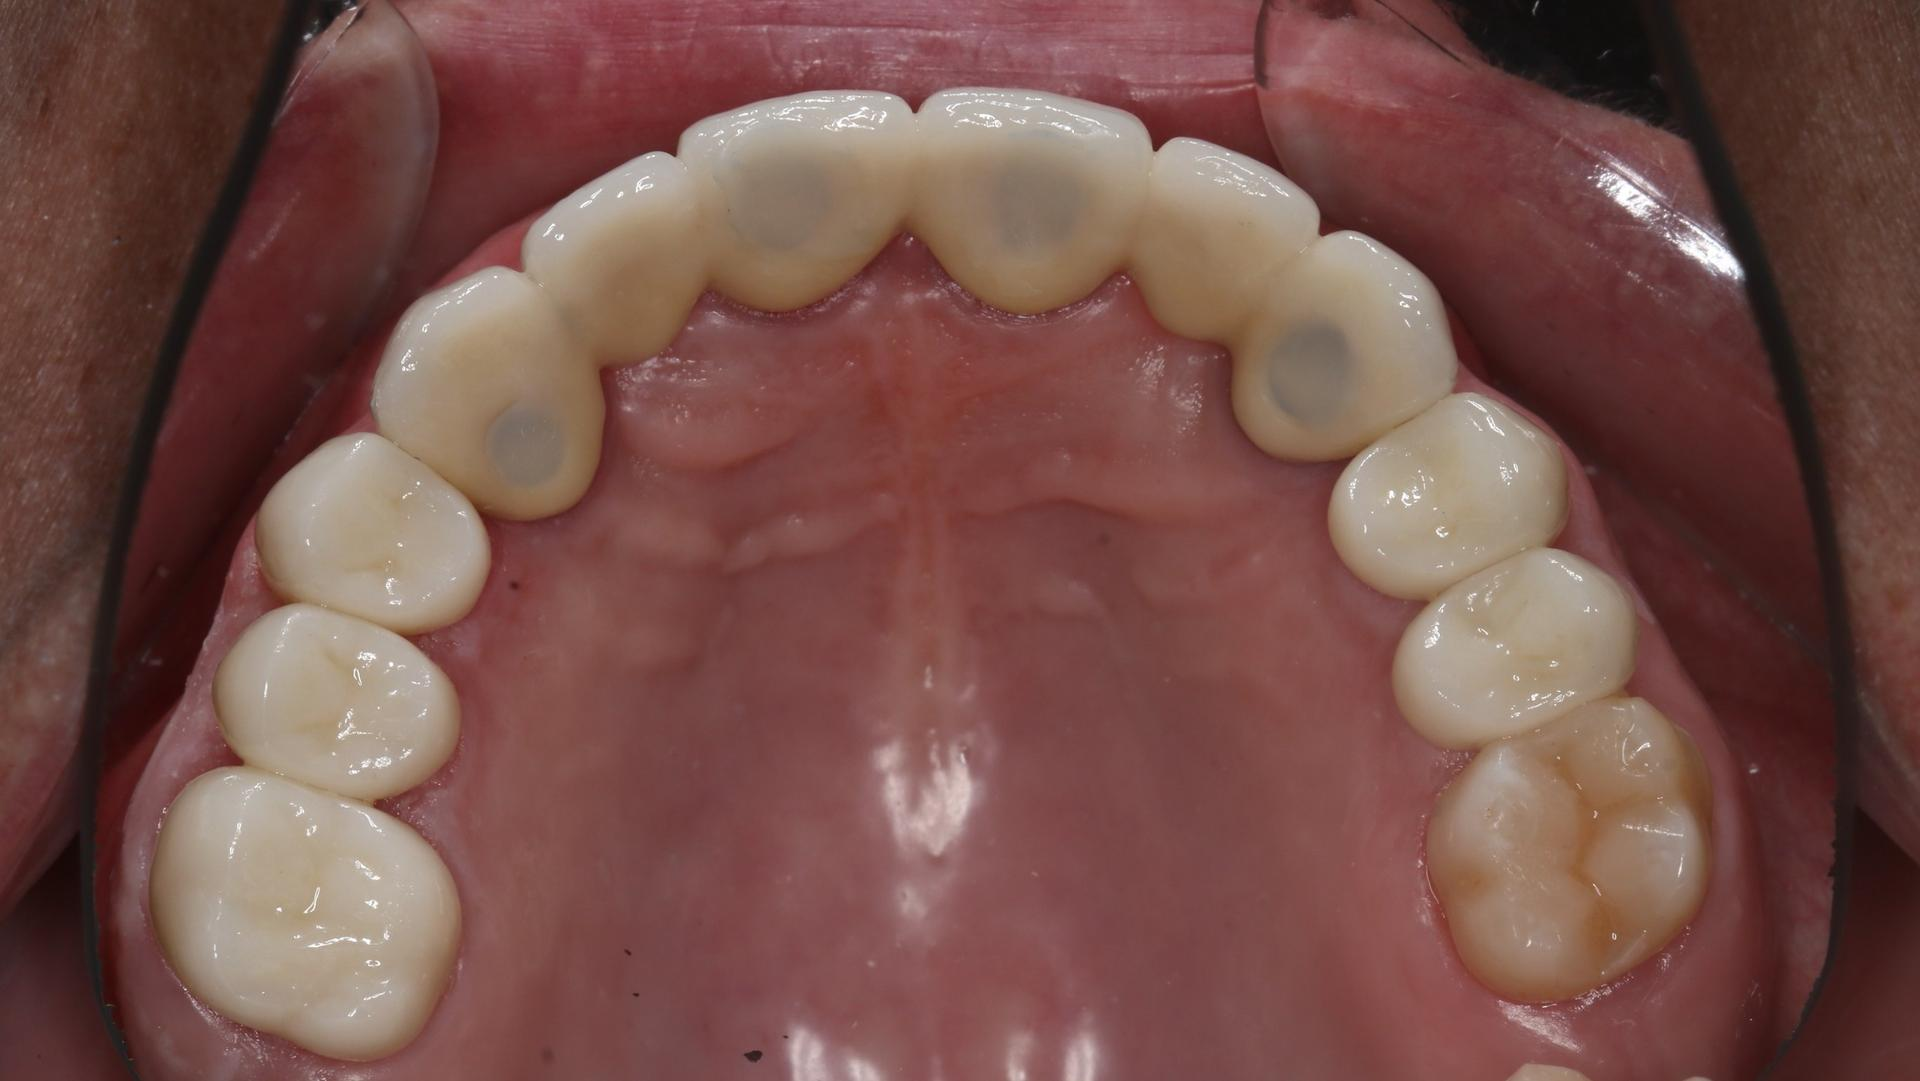UL1BC_healthy: (1404, 573, 1634, 721)
UL2BC_healthy: (1411, 718, 1712, 979)
ULCI_healthy: (911, 88, 1146, 320)
ULC_decay: (1230, 247, 1449, 463)
ULC_healthy: (1338, 411, 1565, 573)
ULLI_healthy: (1145, 138, 1299, 359)
UR1BC_healthy: (272, 446, 498, 620)
UR1M_healthy: (157, 776, 454, 1030)
UR2BC_healthy: (219, 621, 465, 788)
URCI_healthy: (699, 88, 911, 312)
URC_decay: (376, 286, 617, 506)
URLI_healthy: (545, 160, 702, 352)
